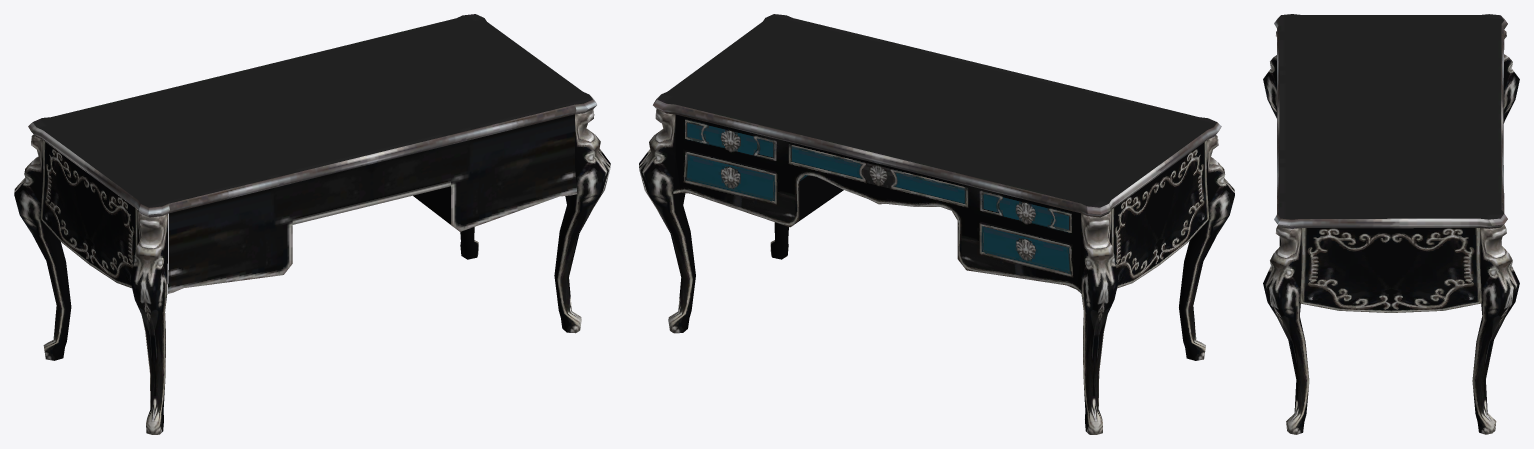
Rendered from furni_0201213_01.FBX.
3 views of the same model, side by side, from view 1: azimuth 30°, elevation 25°; view 2: azimuth 150°, elevation 25°; view 3: azimuth 270°, elevation 25° (orthographic). The views are drawn at different scales.
Visible parts, largest first — view 1: furni_0201213_01; view 2: furni_0201213_01; view 3: furni_0201213_01.
Part boxes in pixels (<box>): furni_0201213_01: <box>14,14,610,434</box>; furni_0201213_01: <box>639,14,1234,434</box>; furni_0201213_01: <box>1263,14,1519,434</box>.
Bounding box in the file's own units: 173 × 79.92 × 85.08.
